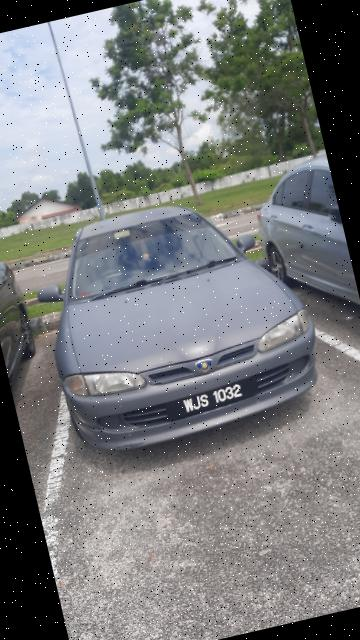License_Plate: (155, 370, 269, 425)
car: (17, 175, 333, 468)
